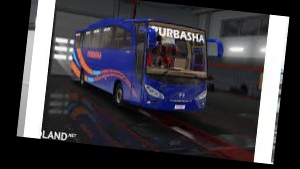bus: (67, 11, 226, 119)
